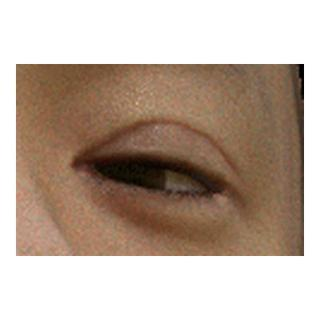pupil: (109, 165, 142, 198)
